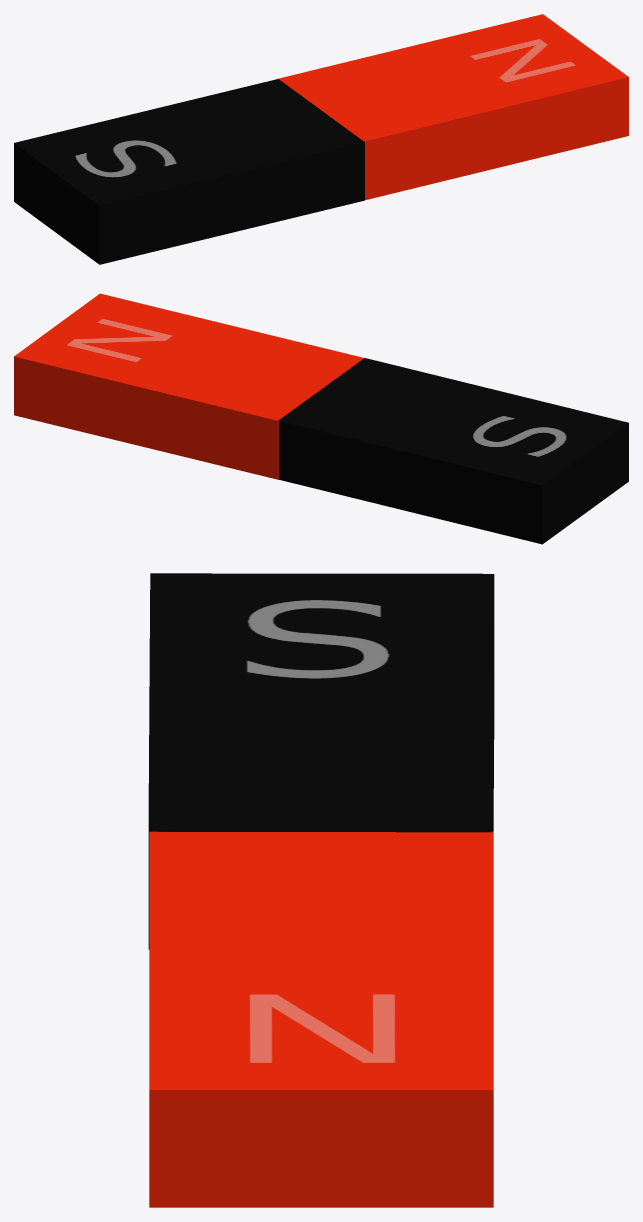
File: omagnet.FBX
3 renders of one model, top to bottom at view 1: azimuth 30°, elevation 25°; view 2: azimuth 150°, elevation 25°; view 3: azimuth 270°, elevation 25°, orthographic. The views are drawn at different scales.
Parts seen in each view (by area): view 1: Box001, Box002; view 2: Box001, Box002; view 3: Box002, Box001.
Part boxes in pixels (<box>): Box001: <box>14,79,364,264</box>; Box002: <box>278,14,628,200</box>; Box001: <box>278,358,628,544</box>; Box002: <box>14,293,364,479</box>; Box002: <box>149,831,493,1207</box>; Box001: <box>148,573,494,949</box>.
Bounding box in the file's own units: 16.9 × 4.78 × 1.8.
5 materials, 5 textured.
